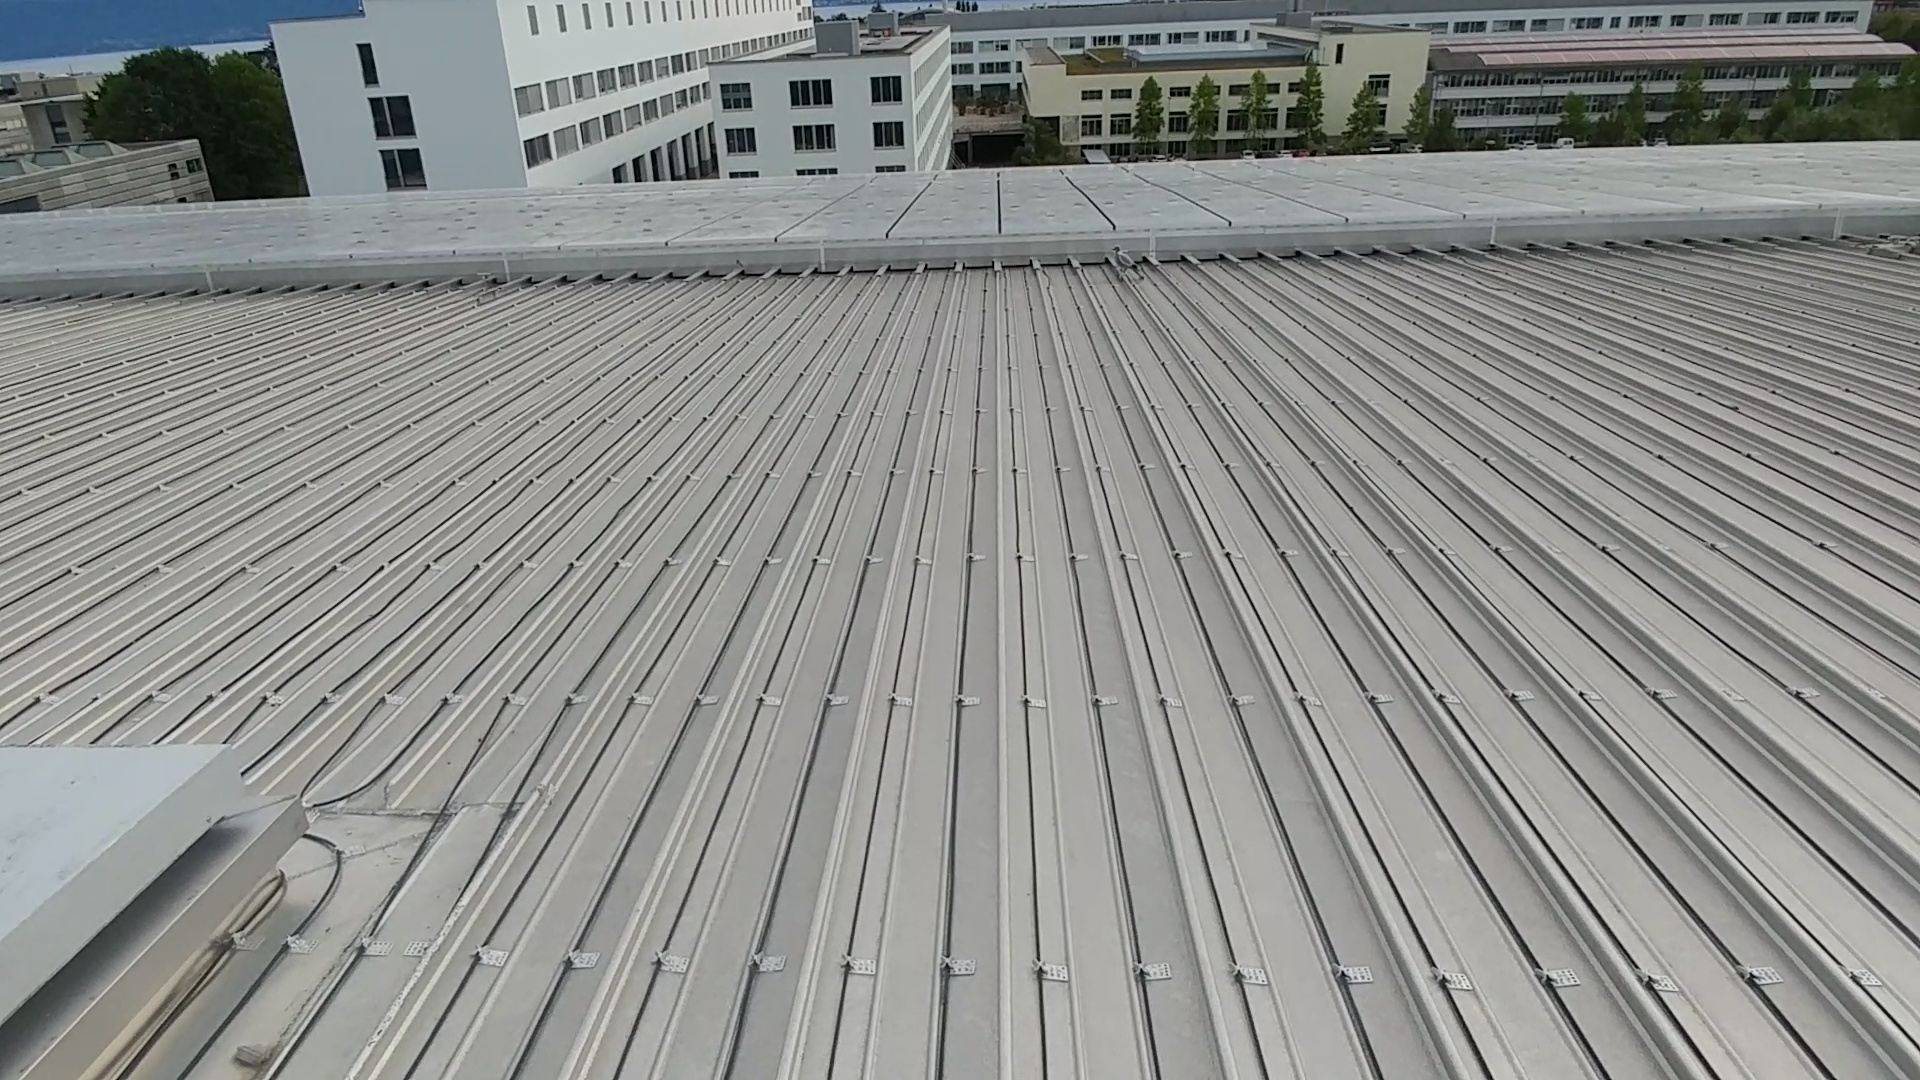Pigeon: (1109, 241, 1149, 287)
